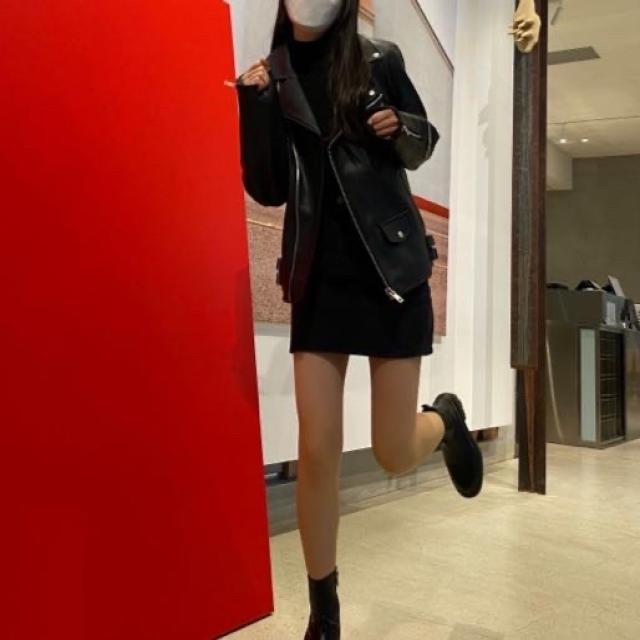jacket: (238, 32, 441, 299)
skirt: (288, 218, 435, 362)
